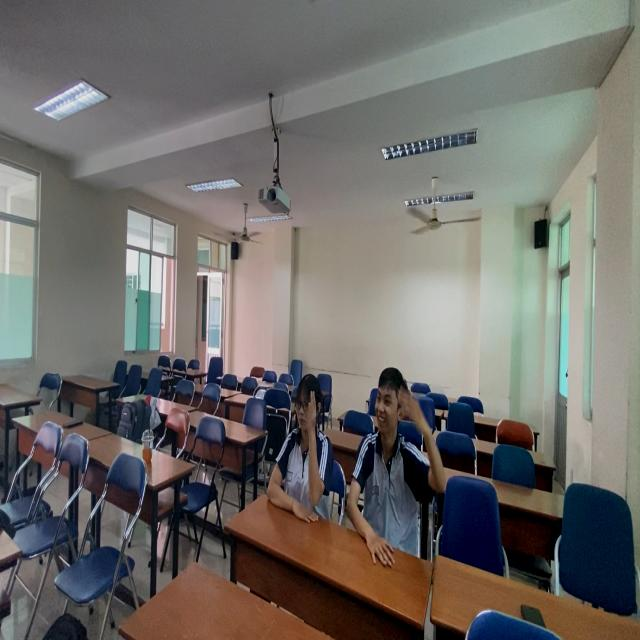raise_hand: (268, 373, 336, 528)
